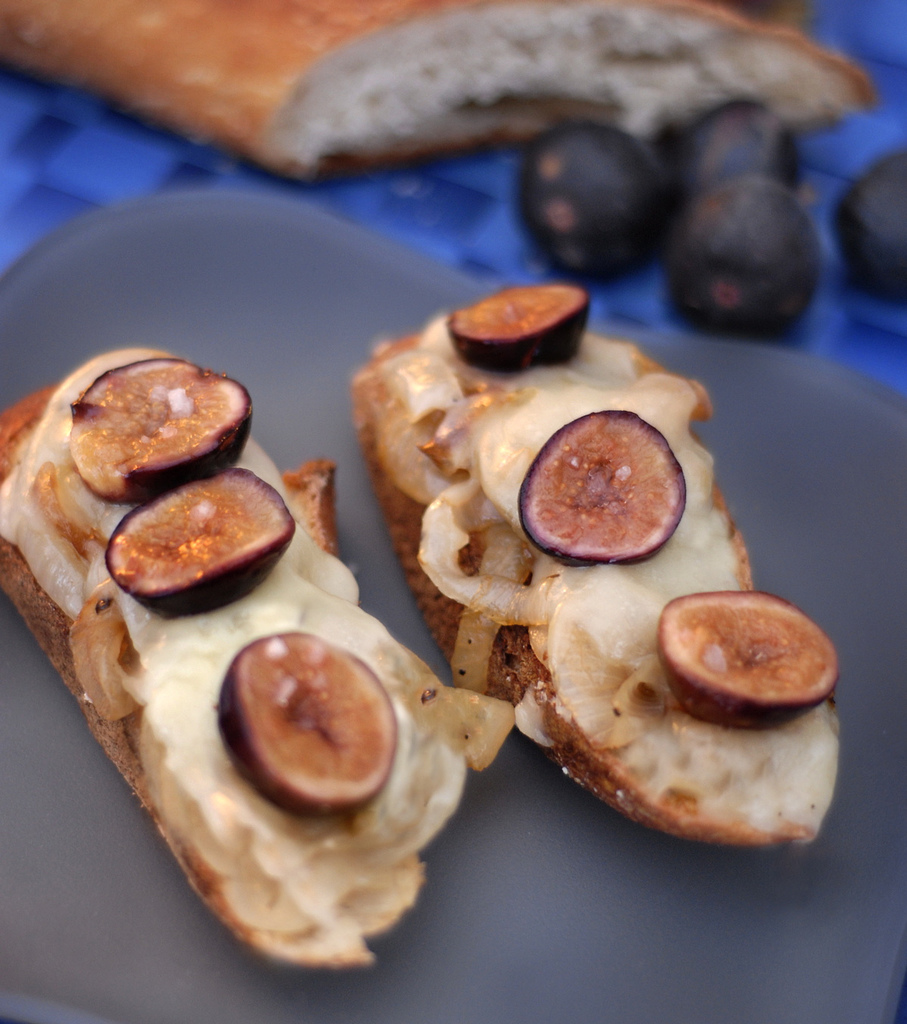slice of bread: (382, 339, 769, 853)
